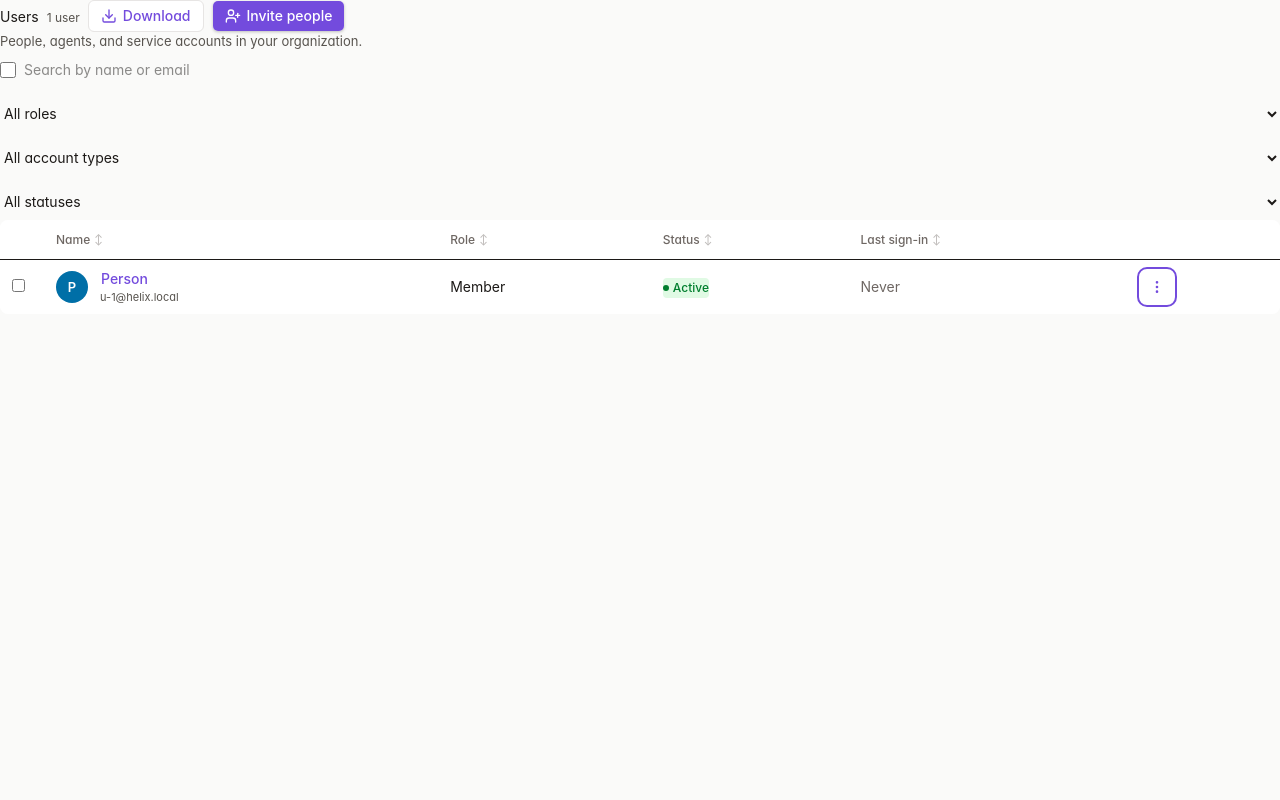
AdminUsers › suspends and restores a person from the row menu after confirming
Press Enter in the button named "Actions for Person", box [1141,271,1173,303]
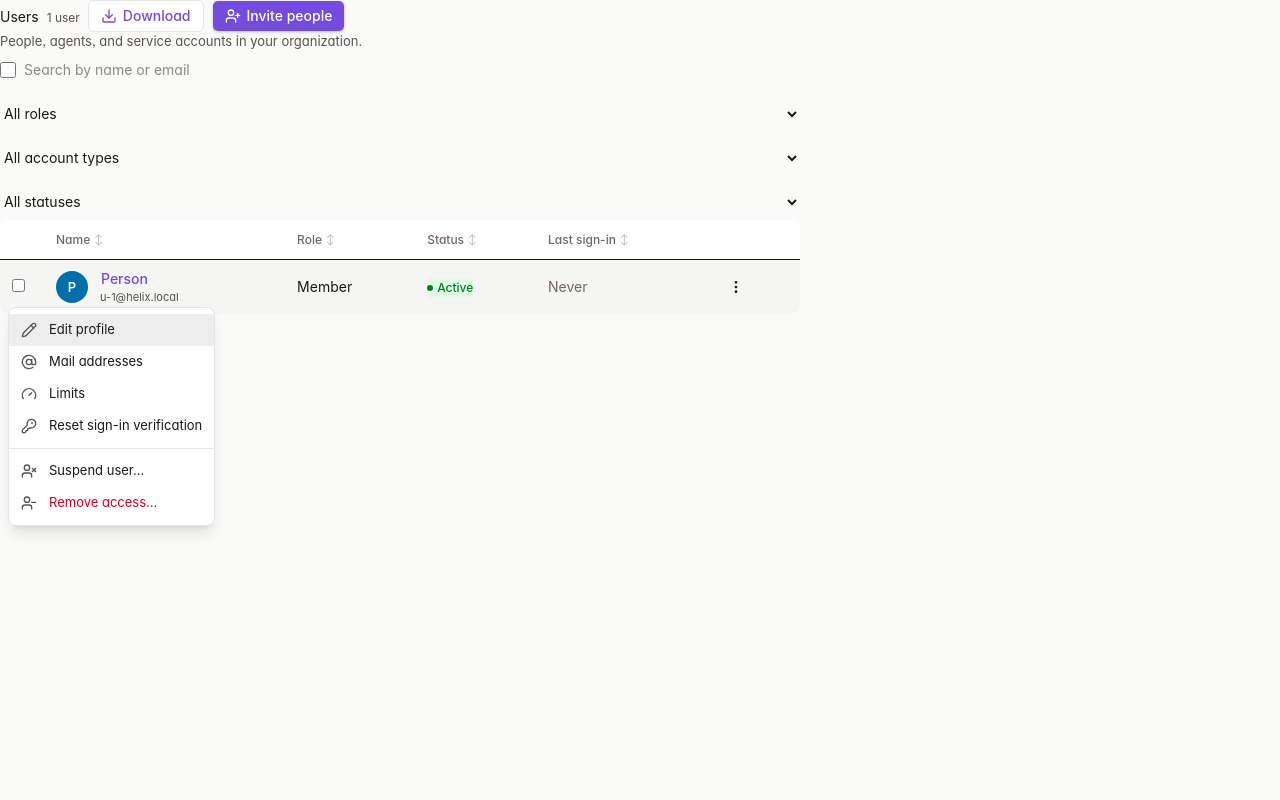
Click the menu item "Suspend user…". click: (83, 471)
box: [21,462,144,479]
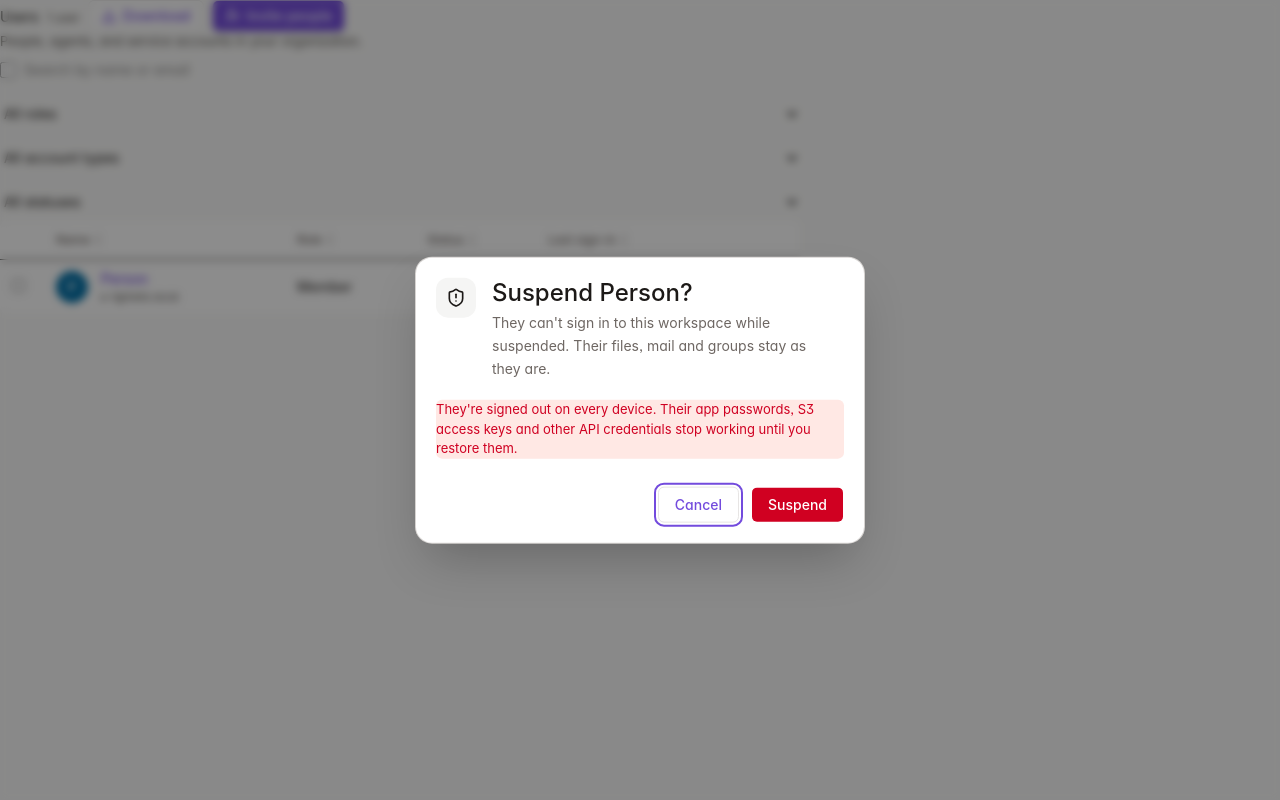
Expected: the dialog shows "signed out on every device", [436,401,814,456]
Click the button "Suspend". click: (798, 504)
box: [751,486,844,522]
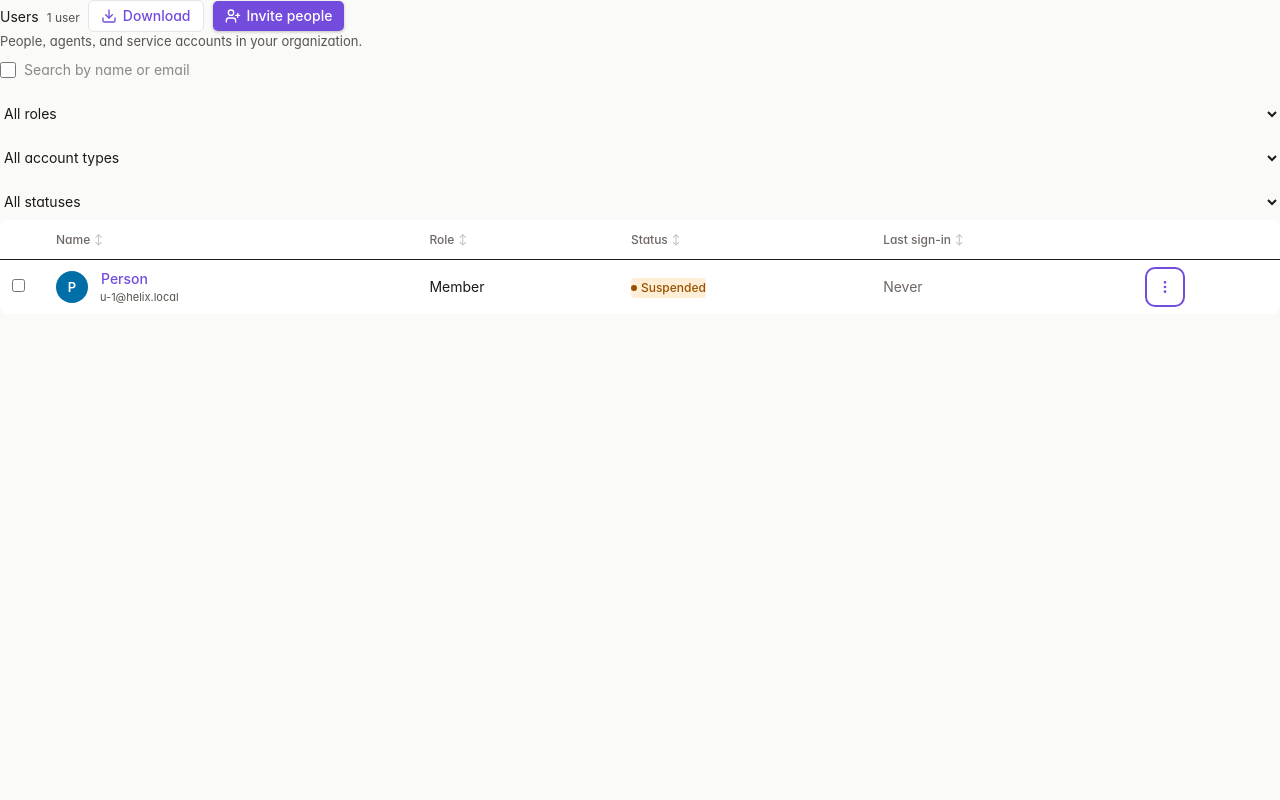
Expected: the element with class "warning" reads "Suspended", [641,280,706,295]
Press Enter in the button named "Actions for Person", box [1149,271,1181,303]
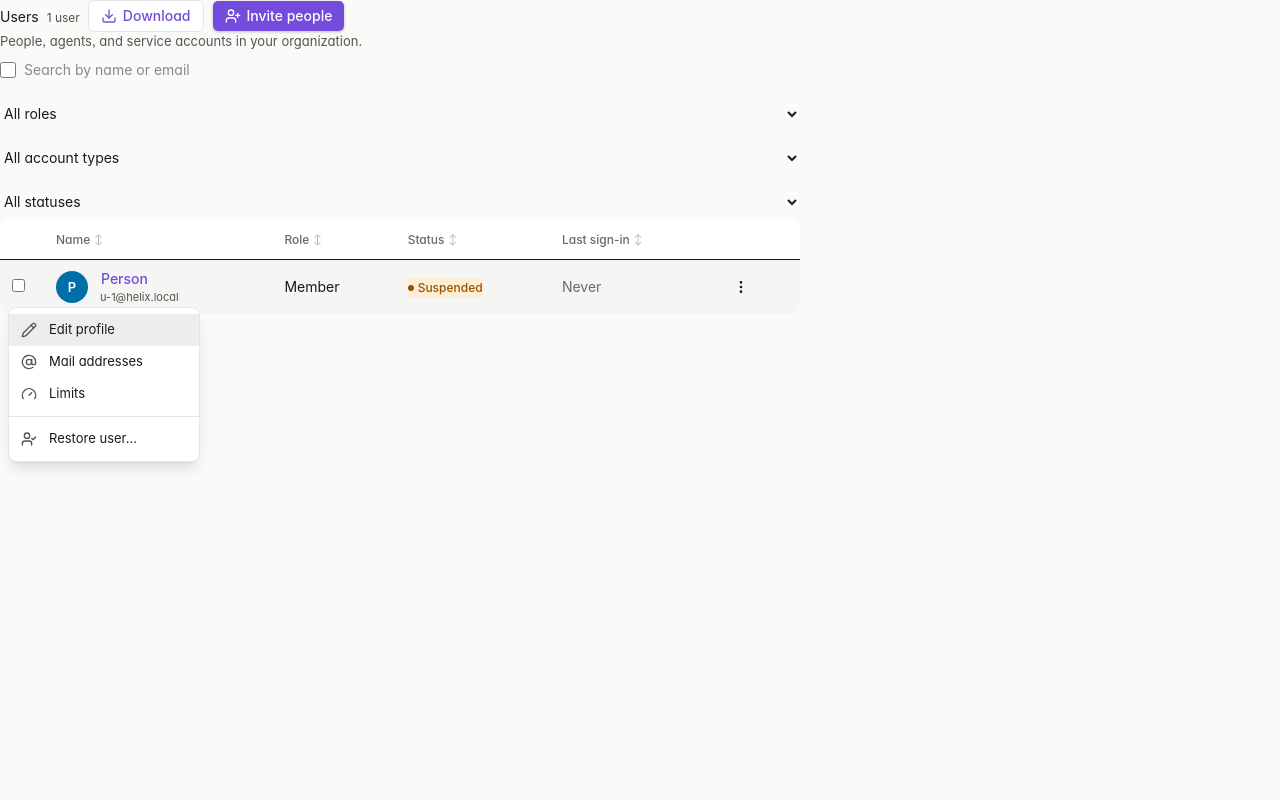
Click the menu item "Restore user…". click: (79, 439)
box: [21,430,137,447]
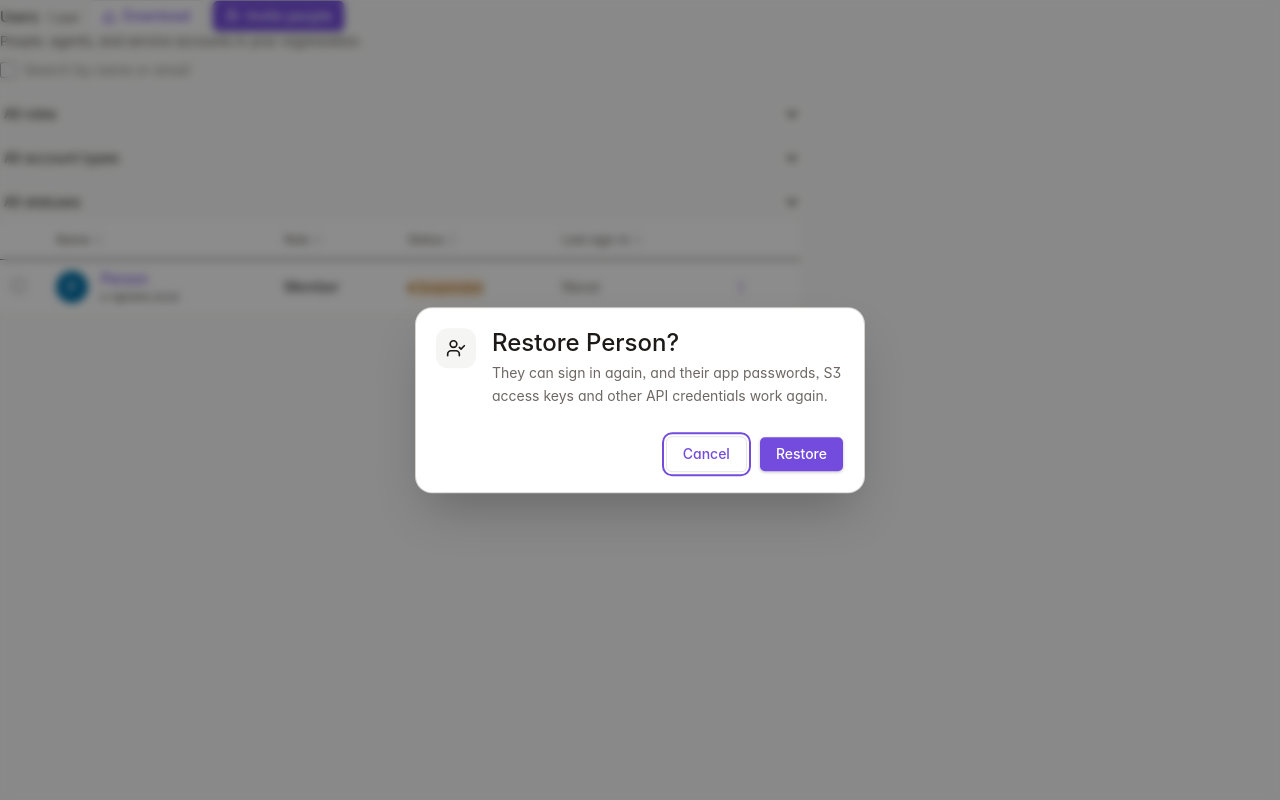
Click the button "Restore". click: (801, 454)
box: [759,436,844,472]
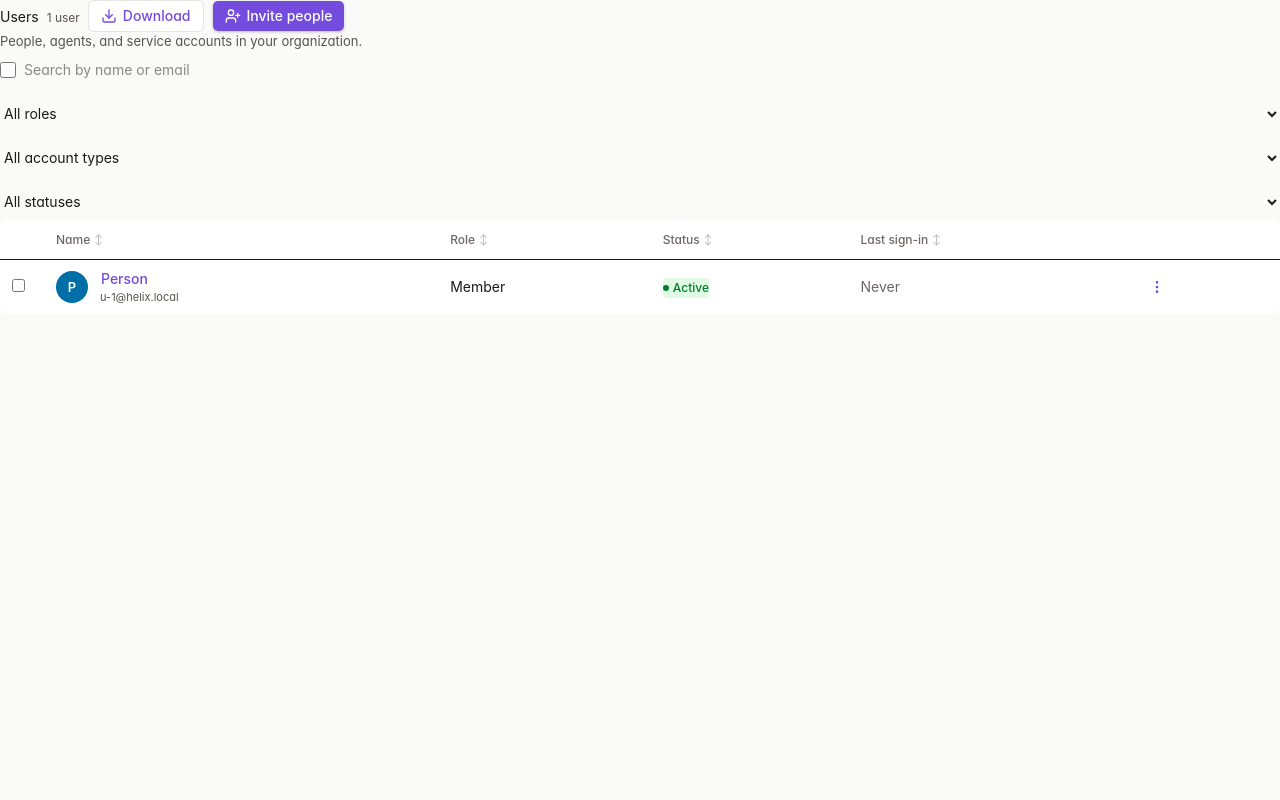
Expected: the element with class "warning" reads "Active", [673,280,709,295]
